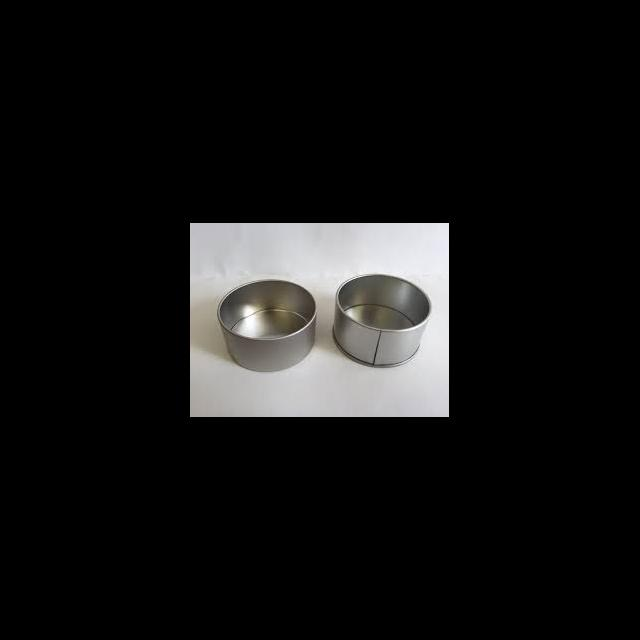metal: (332, 273, 432, 366), (217, 278, 316, 371)
